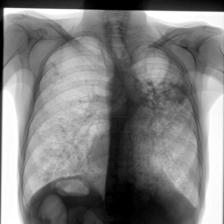tuberculosis: (22, 27, 204, 224)
